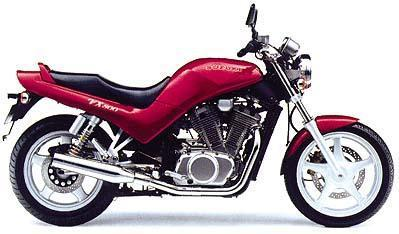motorcycle: (6, 5, 399, 234)
